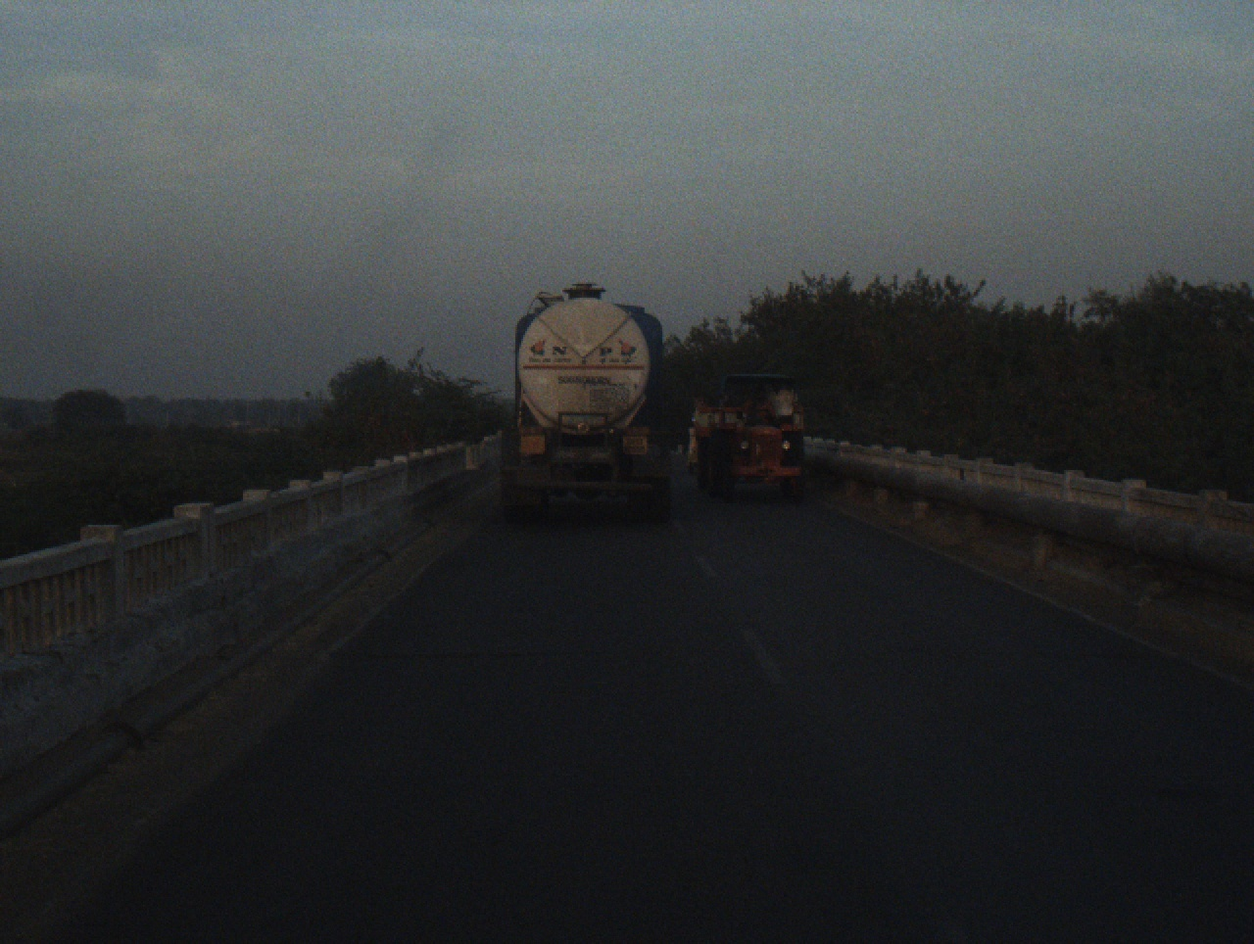truck: (503, 277, 680, 537)
vehicle fallback: (693, 366, 814, 518)
